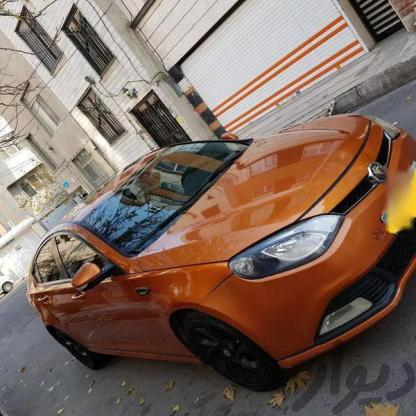Car: (0, 128, 416, 402)
